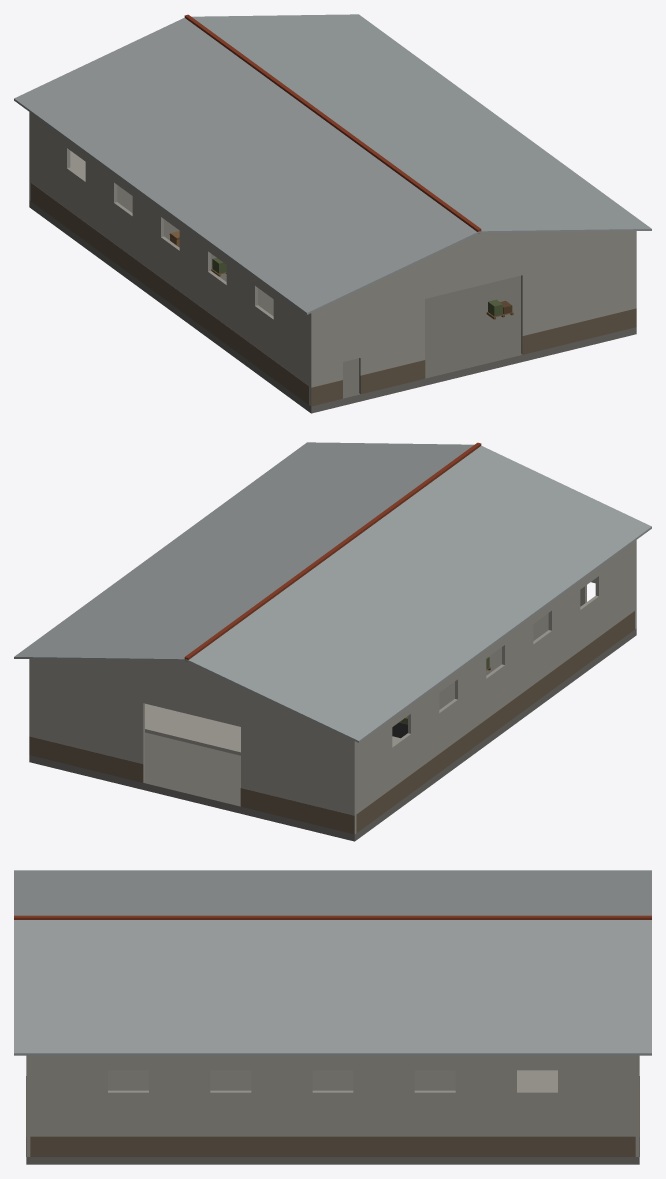
Rendered from galpao_a.glb.
The picture shows the model from 3 angles, top to bottom: view 1: azimuth 30°, elevation 25°; view 2: azimuth 150°, elevation 25°; view 3: azimuth 270°, elevation 25°; orthographic projection. The views are drawn at different scales.
Visible parts, largest first — view 1: galpao_a; view 2: galpao_a; view 3: galpao_a.
Boxes of the visible parts, x1,y1,x2,y2 form: galpao_a: (14,14,651,413); galpao_a: (14,442,651,841); galpao_a: (14,870,651,1164).
Size of the model in its own units: 21.2 by 8.72 by 31.2.
